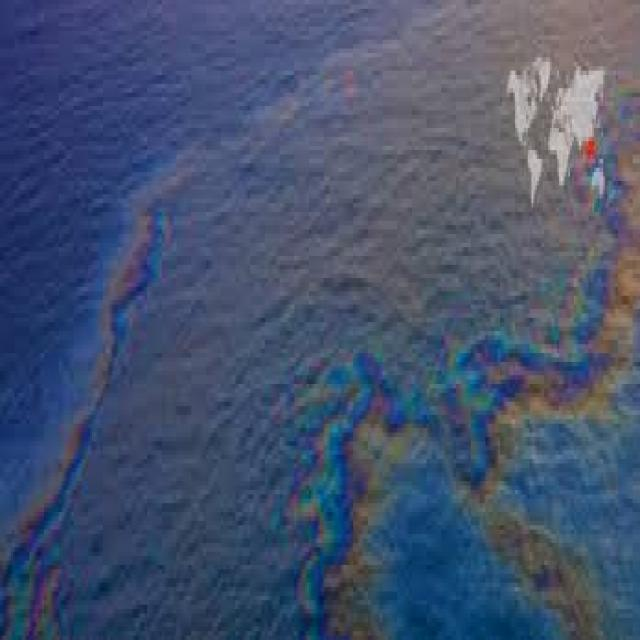rainbow: (0, 212, 163, 640), (440, 260, 640, 483), (296, 353, 434, 638)
